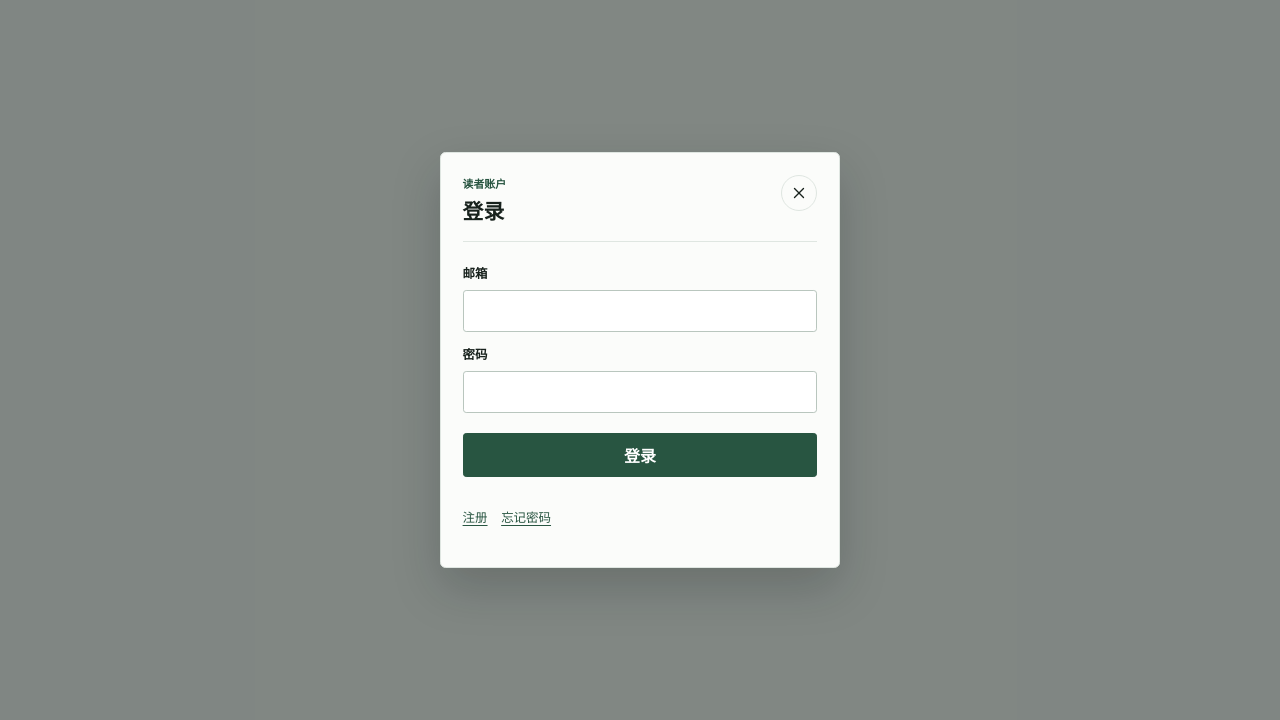
Scenario: AuthDialog › shows registration-disabled copy or a verification-sent state after registration
Click the button named "show-register". click: [475, 518]
box: [463,508,488,526]
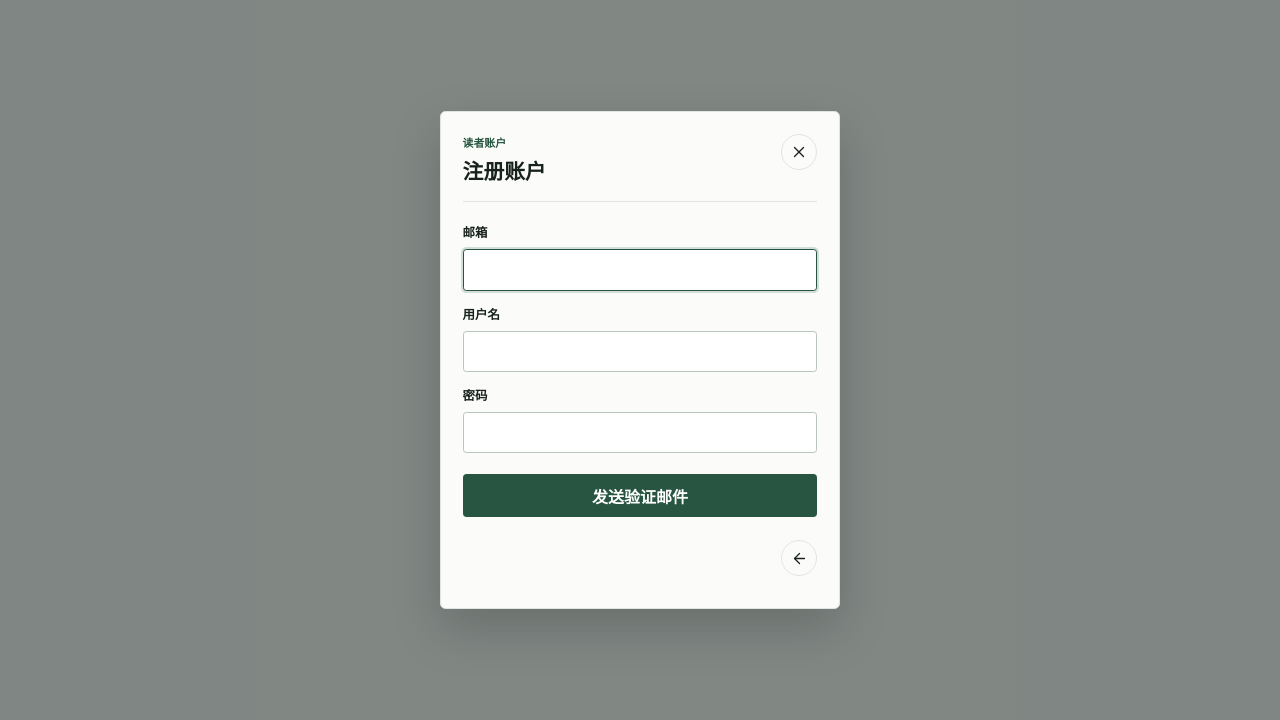
Type "reader@example.com" into the field named "email". click: [640, 270]
box: [463,249,817,291]
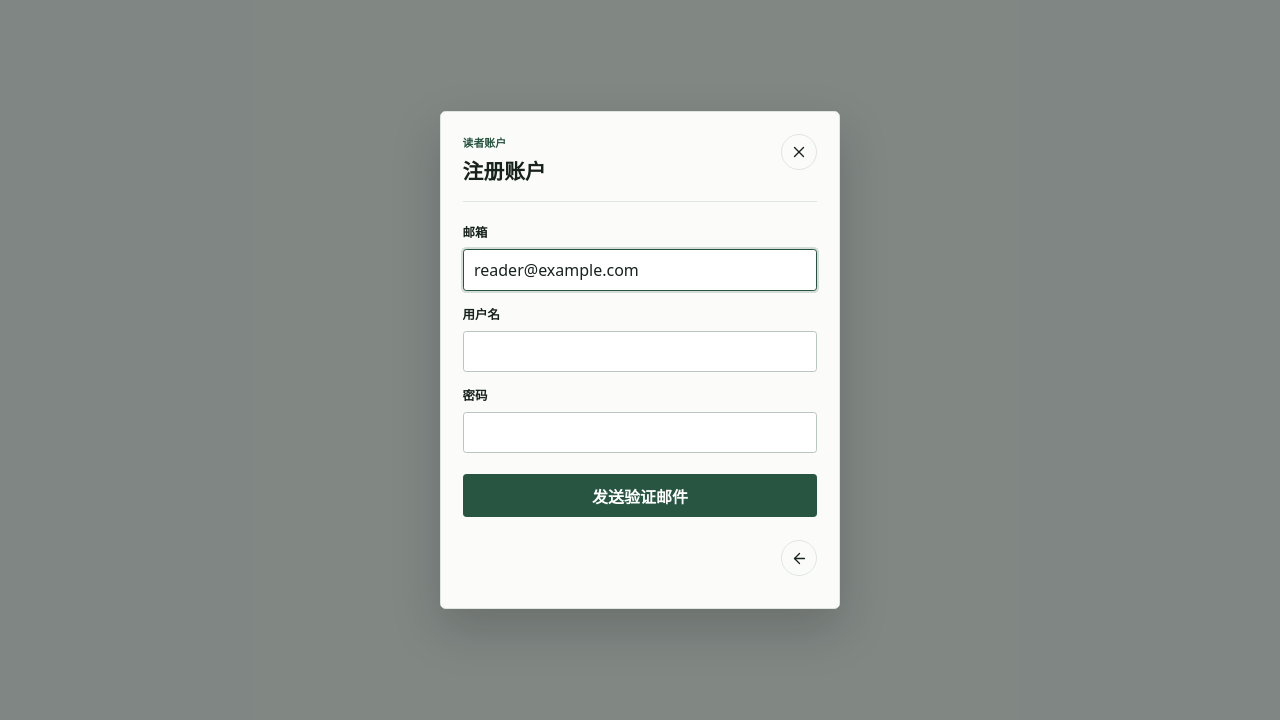
Type "reader" into the field named "username". click: [640, 351]
box: [463,330,817,372]
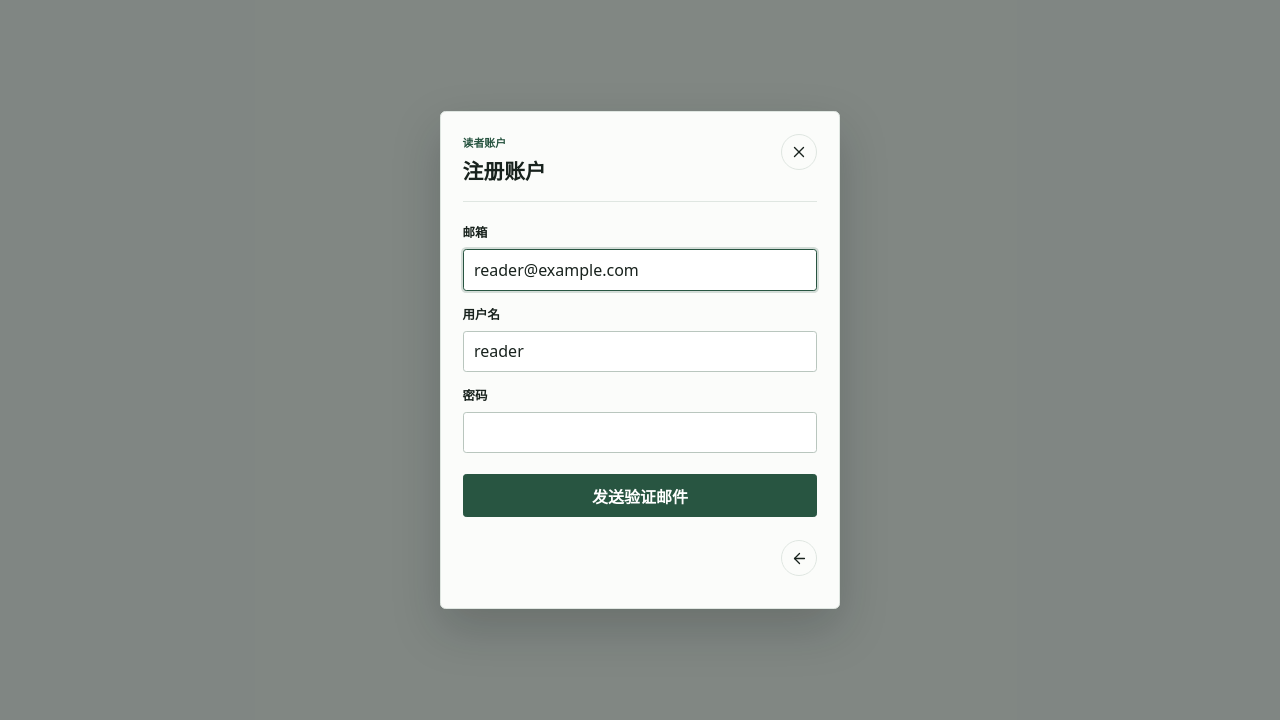
Type "password123" into the password field named "password". click: [640, 432]
box: [463,412,817,453]
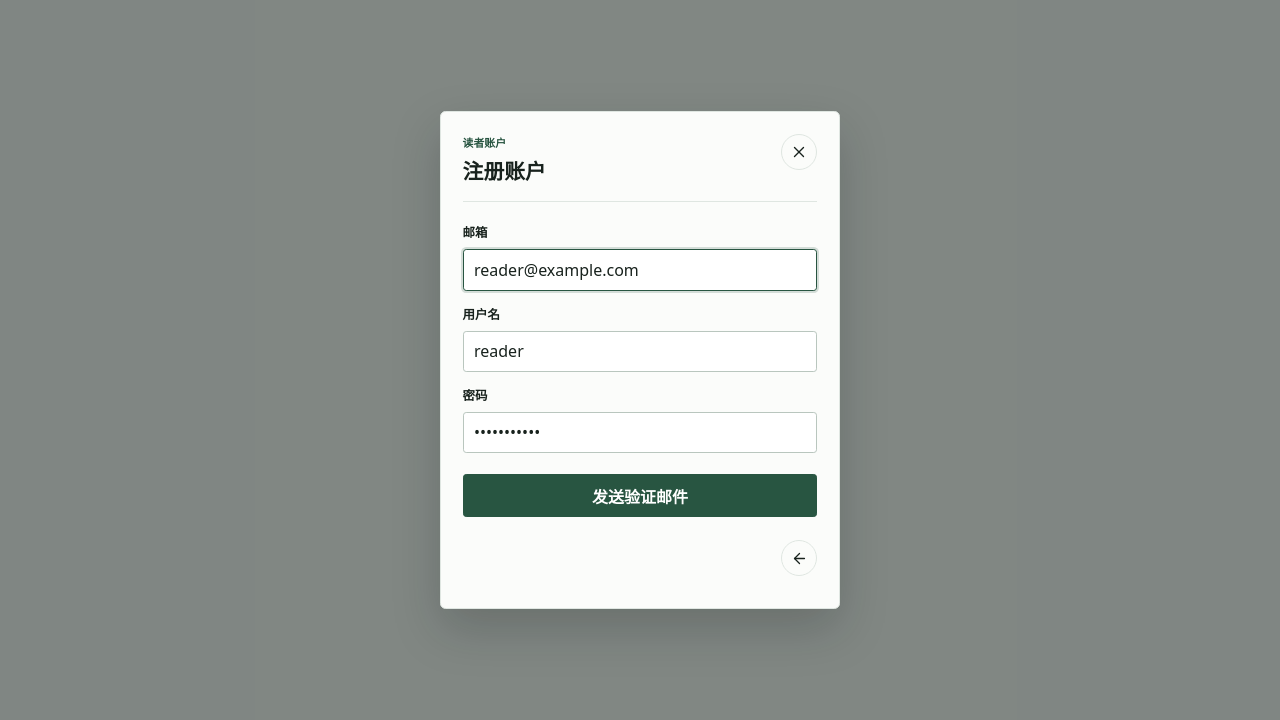
Submit the form, box [463,202,817,517]
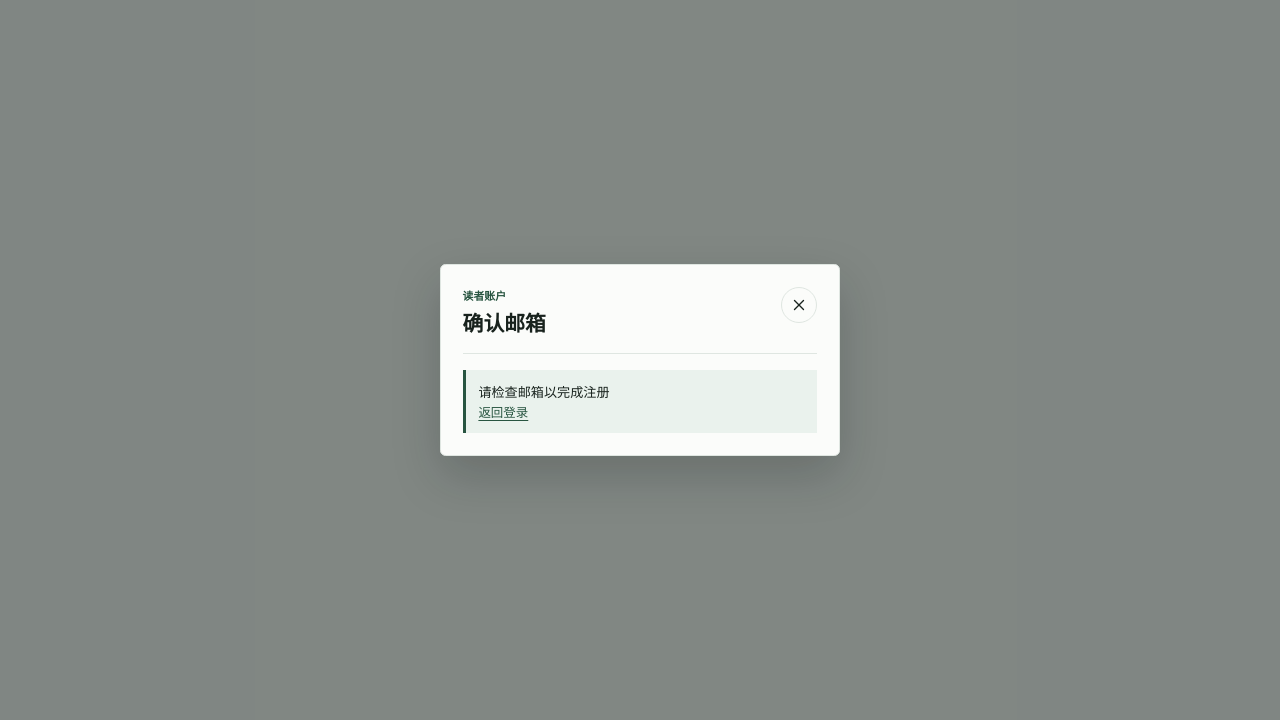
Check: the text "请检查邮箱以完成注册" is shown, box [478,382,610,400]
